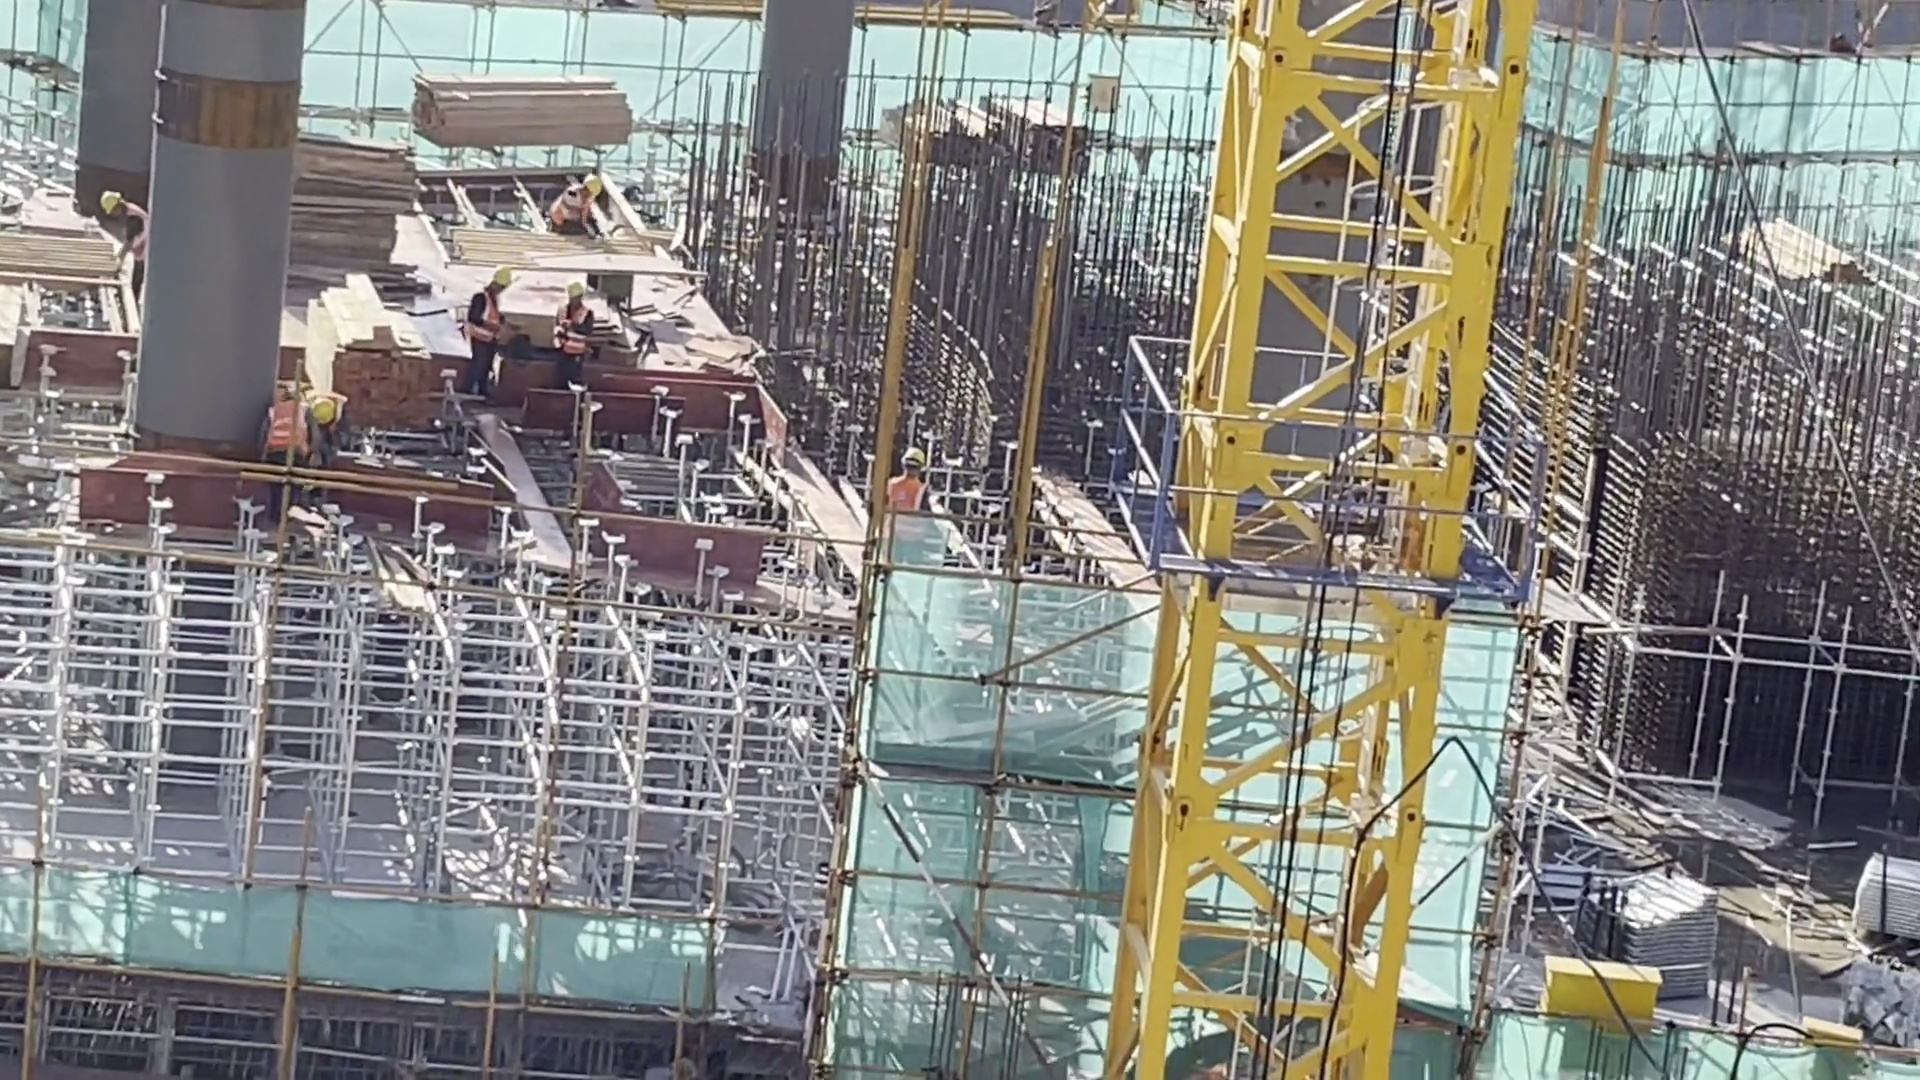cutter: (519, 242, 706, 311)
ebox: (1529, 947, 1667, 1032)
helmet: (579, 174, 602, 202), (310, 397, 332, 424), (488, 264, 512, 287), (99, 191, 122, 213), (899, 450, 930, 466), (564, 282, 588, 298)
person: (461, 261, 514, 387), (256, 383, 324, 475), (99, 187, 150, 305), (546, 170, 601, 247), (890, 448, 941, 524), (556, 282, 594, 387), (298, 388, 343, 472)
scaffold: (1586, 860, 1720, 1001)
vest: (465, 296, 511, 355), (553, 306, 589, 357), (119, 205, 149, 259), (884, 478, 929, 510), (553, 188, 585, 228), (268, 402, 294, 448)
wood: (272, 134, 424, 292), (308, 271, 436, 444), (416, 63, 641, 152), (1, 701, 125, 844)
